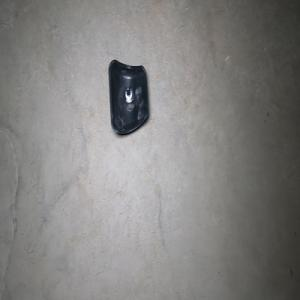LuggagePart: (107, 58, 149, 136)
